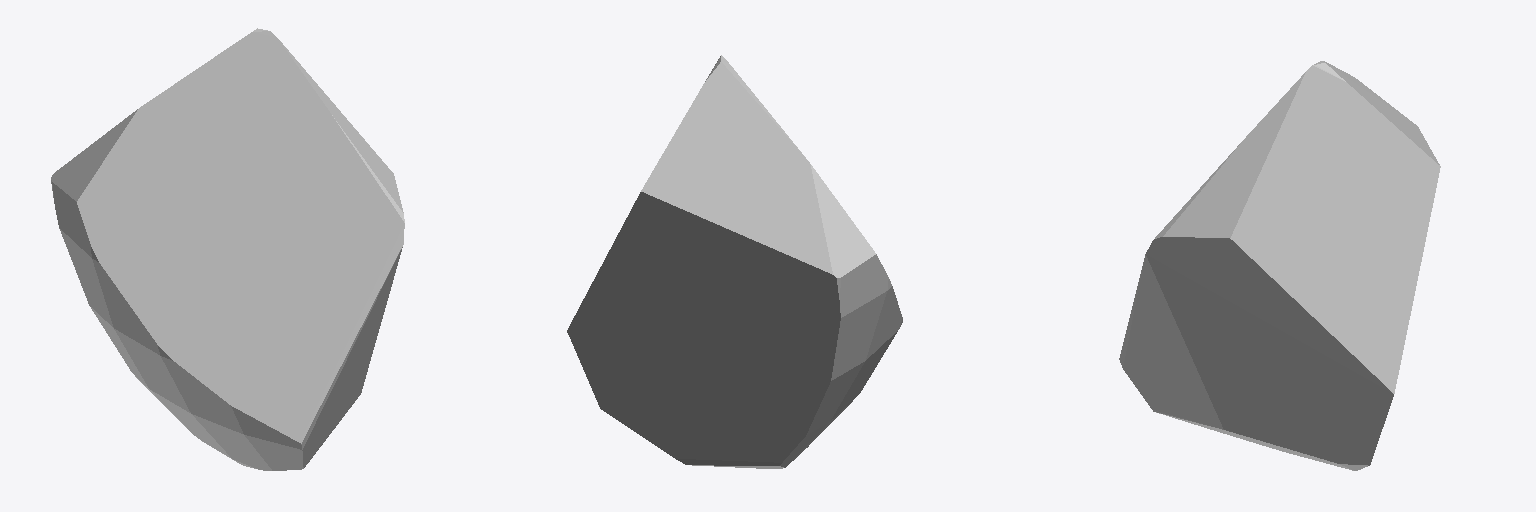
File: Sphere_Cell_Fracture58.obj
3 renders of one model, left to right at view 1: azimuth 30°, elevation 25°; view 2: azimuth 150°, elevation 25°; view 3: azimuth 270°, elevation 25°, orthographic.
Bounding box in the file's own units: 0.7505 × 1.02 × 0.726.